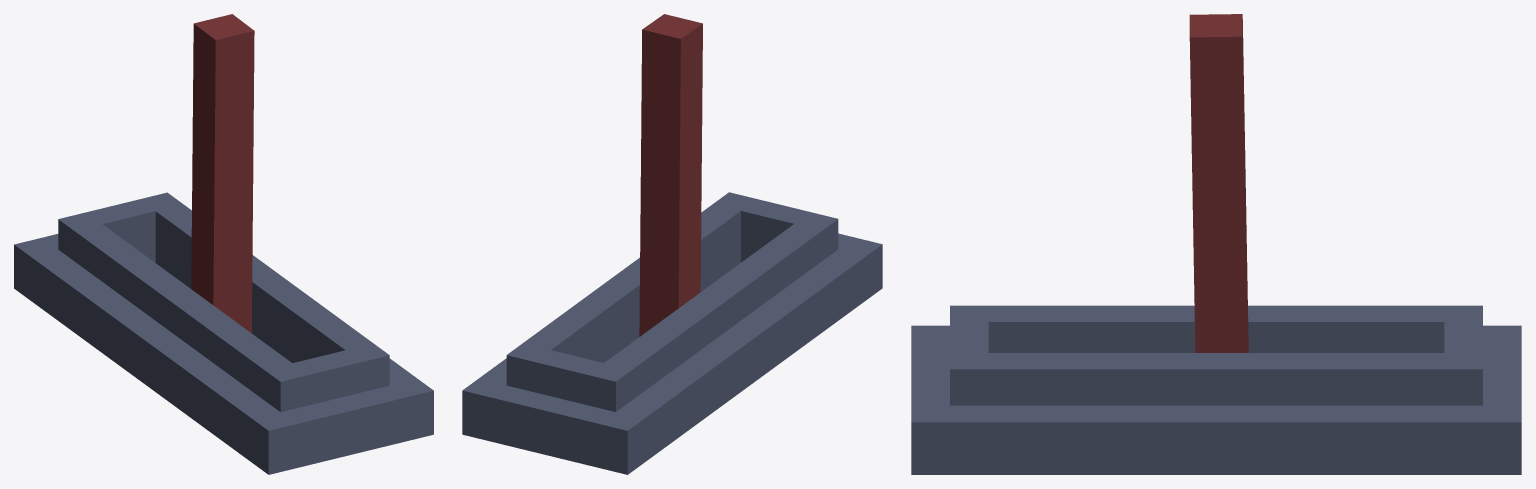
Rendered from palanca.fbx.
3 renders of one model, left to right at view 1: azimuth 30°, elevation 25°; view 2: azimuth 150°, elevation 25°; view 3: azimuth 270°, elevation 25°, orthographic. The views are drawn at different scales.
Parts seen in each view (by area): view 1: lever base, lever; view 2: lever base, lever; view 3: lever base, lever.
Boxes of the visible parts, left/top/right/bottom form: lever base: left=14, top=192, right=433, bottom=474; lever: left=191, top=14, right=254, bottom=332; lever base: left=462, top=192, right=882, bottom=474; lever: left=639, top=14, right=702, bottom=336; lever base: left=911, top=305, right=1521, bottom=474; lever: left=1189, top=14, right=1248, bottom=352.
Bounding box in the file's own units: 54.08 × 105 × 144.
